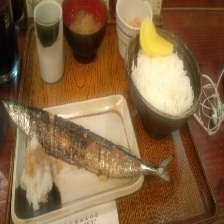rice: (134, 49, 196, 118)
